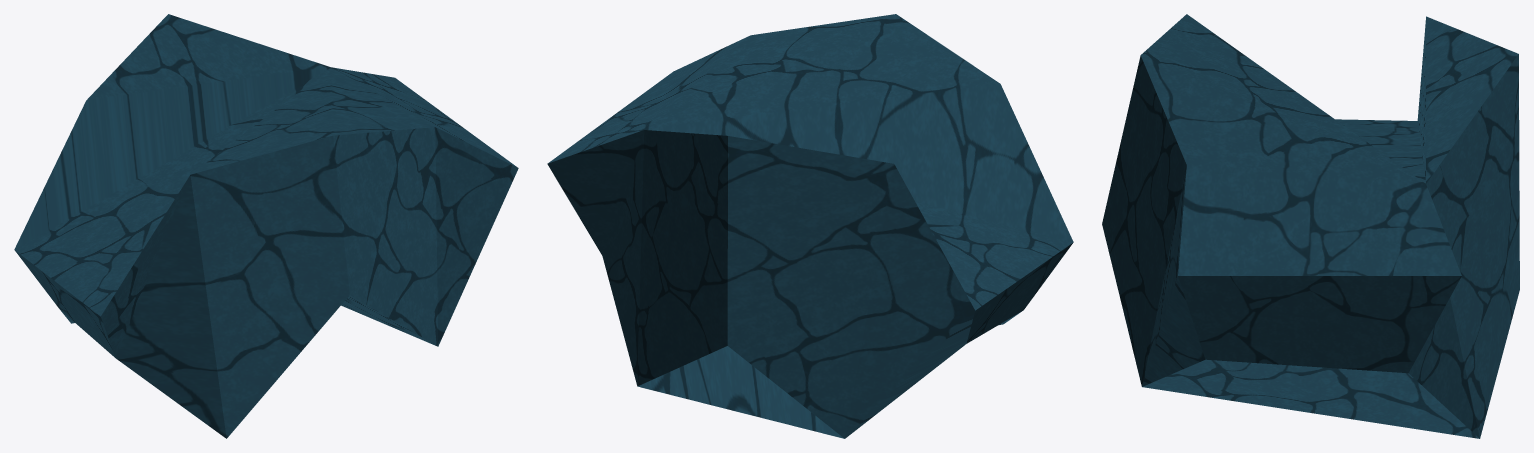
The model's file is gangora1.fbx.
3 views of the same model, side by side, from view 1: azimuth 30°, elevation 25°; view 2: azimuth 150°, elevation 25°; view 3: azimuth 270°, elevation 25° (orthographic). The views are drawn at different scales.
Visible parts, largest first — view 1: Circle; view 2: Circle; view 3: Circle.
Part boxes in pixels (box(x1,y1,x2,y2)): Circle: box(14, 14, 518, 438); Circle: box(547, 14, 1073, 438); Circle: box(1102, 14, 1519, 438).
Bounding box in the file's own units: 3.06 × 2.05 × 2.38.
Materials: 1 (1 with a texture image).
